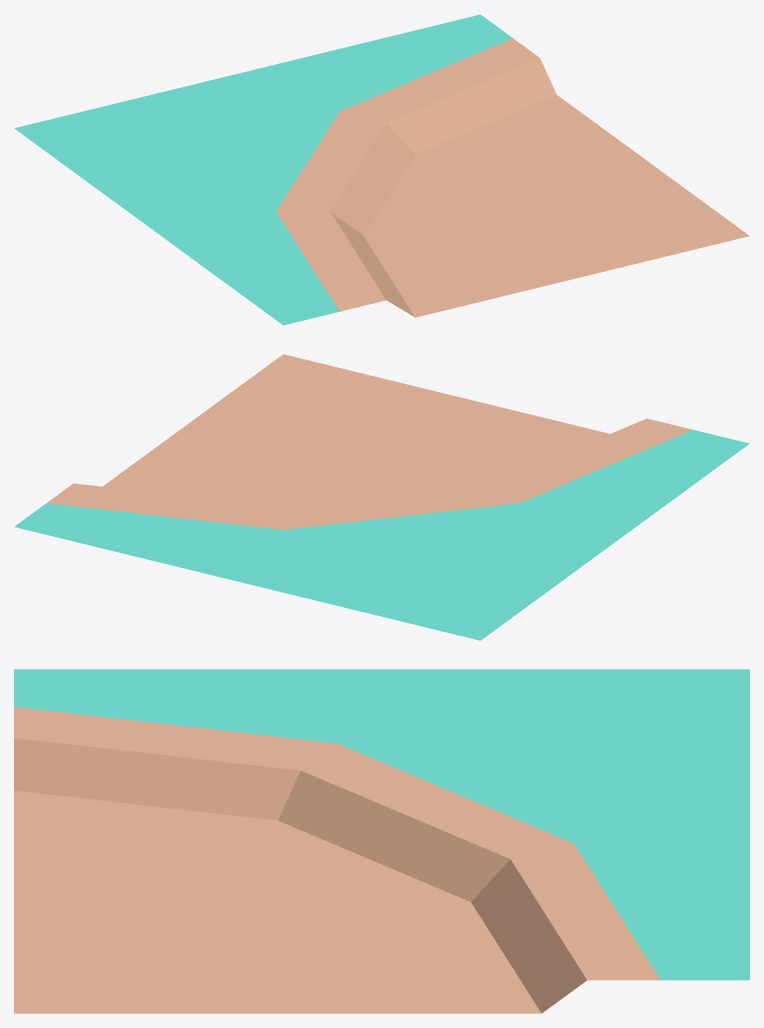
The model's file is ground_pathcorner.glb.
3 views of the same model, one above another, from view 1: azimuth 30°, elevation 25°; view 2: azimuth 150°, elevation 25°; view 3: azimuth 270°, elevation 25° (orthographic). The views are drawn at different scales.
Parts seen in each view (by area): view 1: ground_pathCorner; view 2: ground_pathCorner; view 3: ground_pathCorner.
Boxes of the visible parts, x1=… form: ground_pathCorner: x1=14, y1=14, x2=749, y2=325; ground_pathCorner: x1=14, y1=354, x2=749, y2=640; ground_pathCorner: x1=14, y1=669, x2=749, y2=1013.
Size of the model in its own units: 1 by 0.05 by 1.
